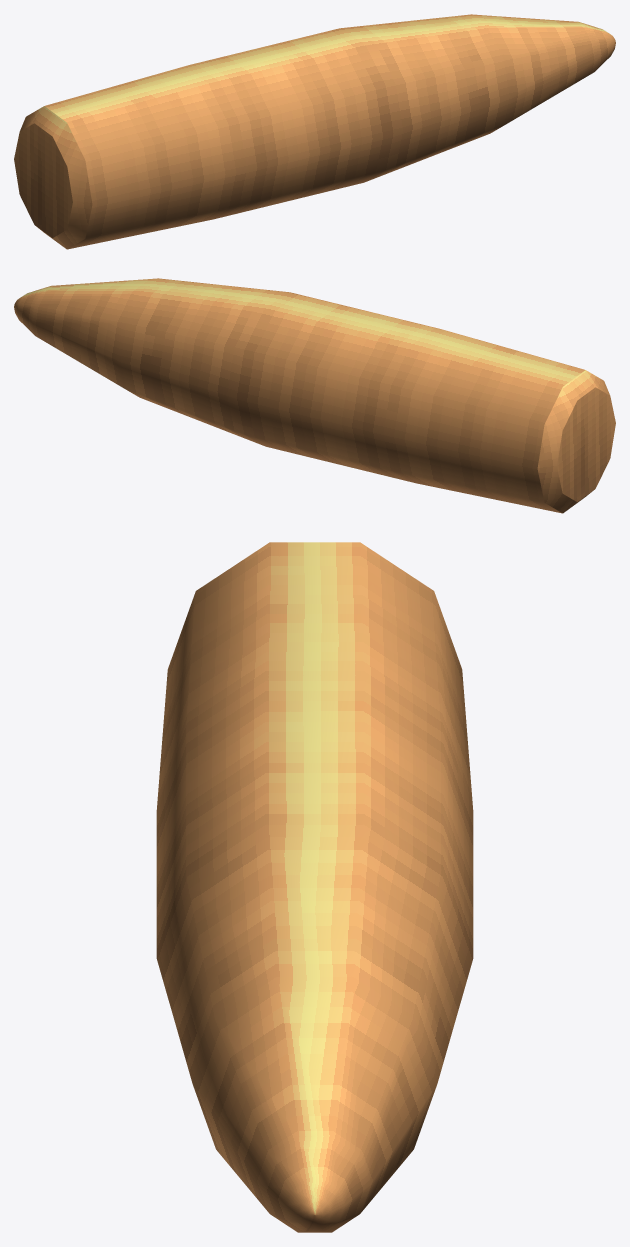
The model's file is ammomaker_BulletRifleL.fbx.
The picture shows the model from 3 angles, top to bottom: view 1: azimuth 30°, elevation 25°; view 2: azimuth 150°, elevation 25°; view 3: azimuth 270°, elevation 25°; orthographic projection. The views are drawn at different scales.
Parts seen in each view (by area): view 1: ammomaker_BulletRifleL; view 2: ammomaker_BulletRifleL; view 3: ammomaker_BulletRifleL.
Part boxes in pixels (x1,y1,x2,y2): ammomaker_BulletRifleL: [14, 14, 615, 249]; ammomaker_BulletRifleL: [14, 278, 615, 513]; ammomaker_BulletRifleL: [156, 542, 473, 1232].
Size of the model in its own units: 5.41 by 1.23 by 1.3.
